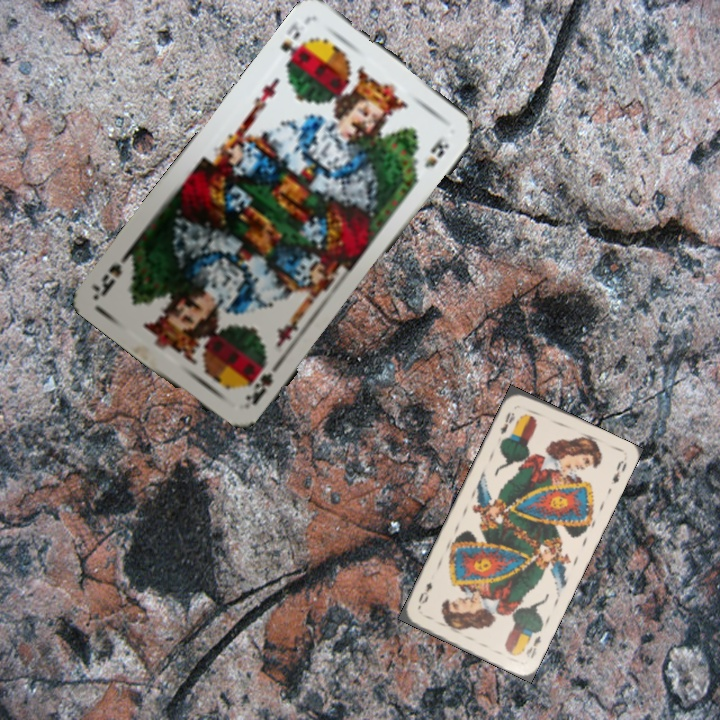EO: (522, 631, 543, 662), (496, 408, 518, 437)
SK: (276, 20, 314, 70), (241, 358, 276, 408)
